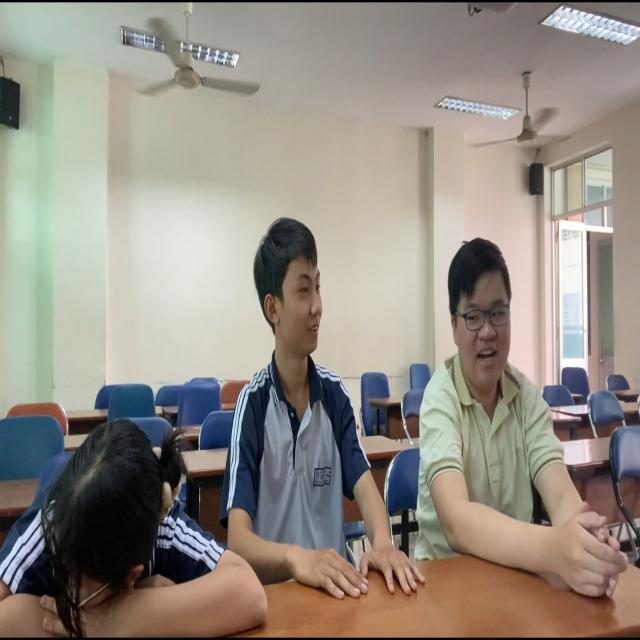sleep: (4, 419, 237, 637)
